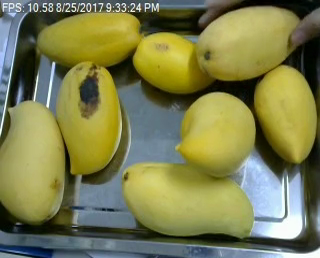Mango: (124, 163, 252, 238), (194, 4, 308, 80), (0, 100, 66, 224), (55, 61, 124, 174), (177, 90, 255, 176), (36, 8, 142, 66), (254, 67, 316, 163), (132, 32, 219, 91)
